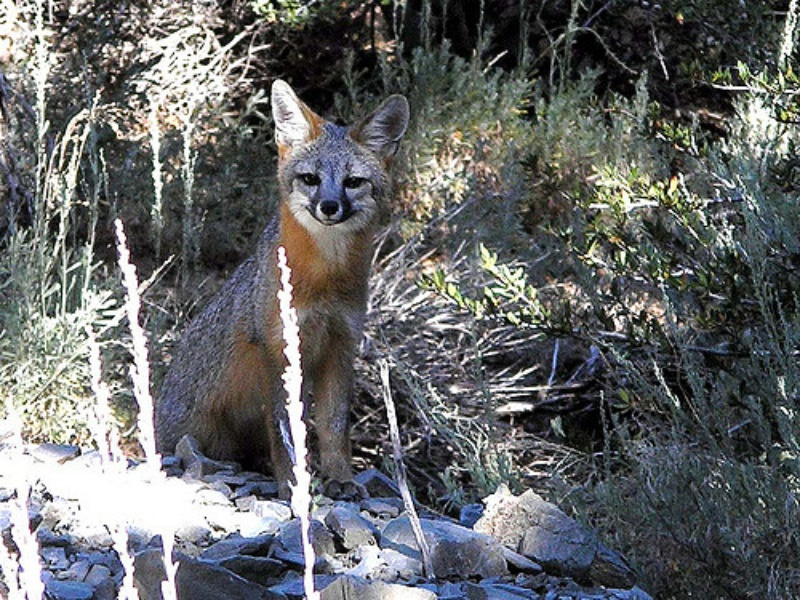fox: (142, 78, 418, 498)
